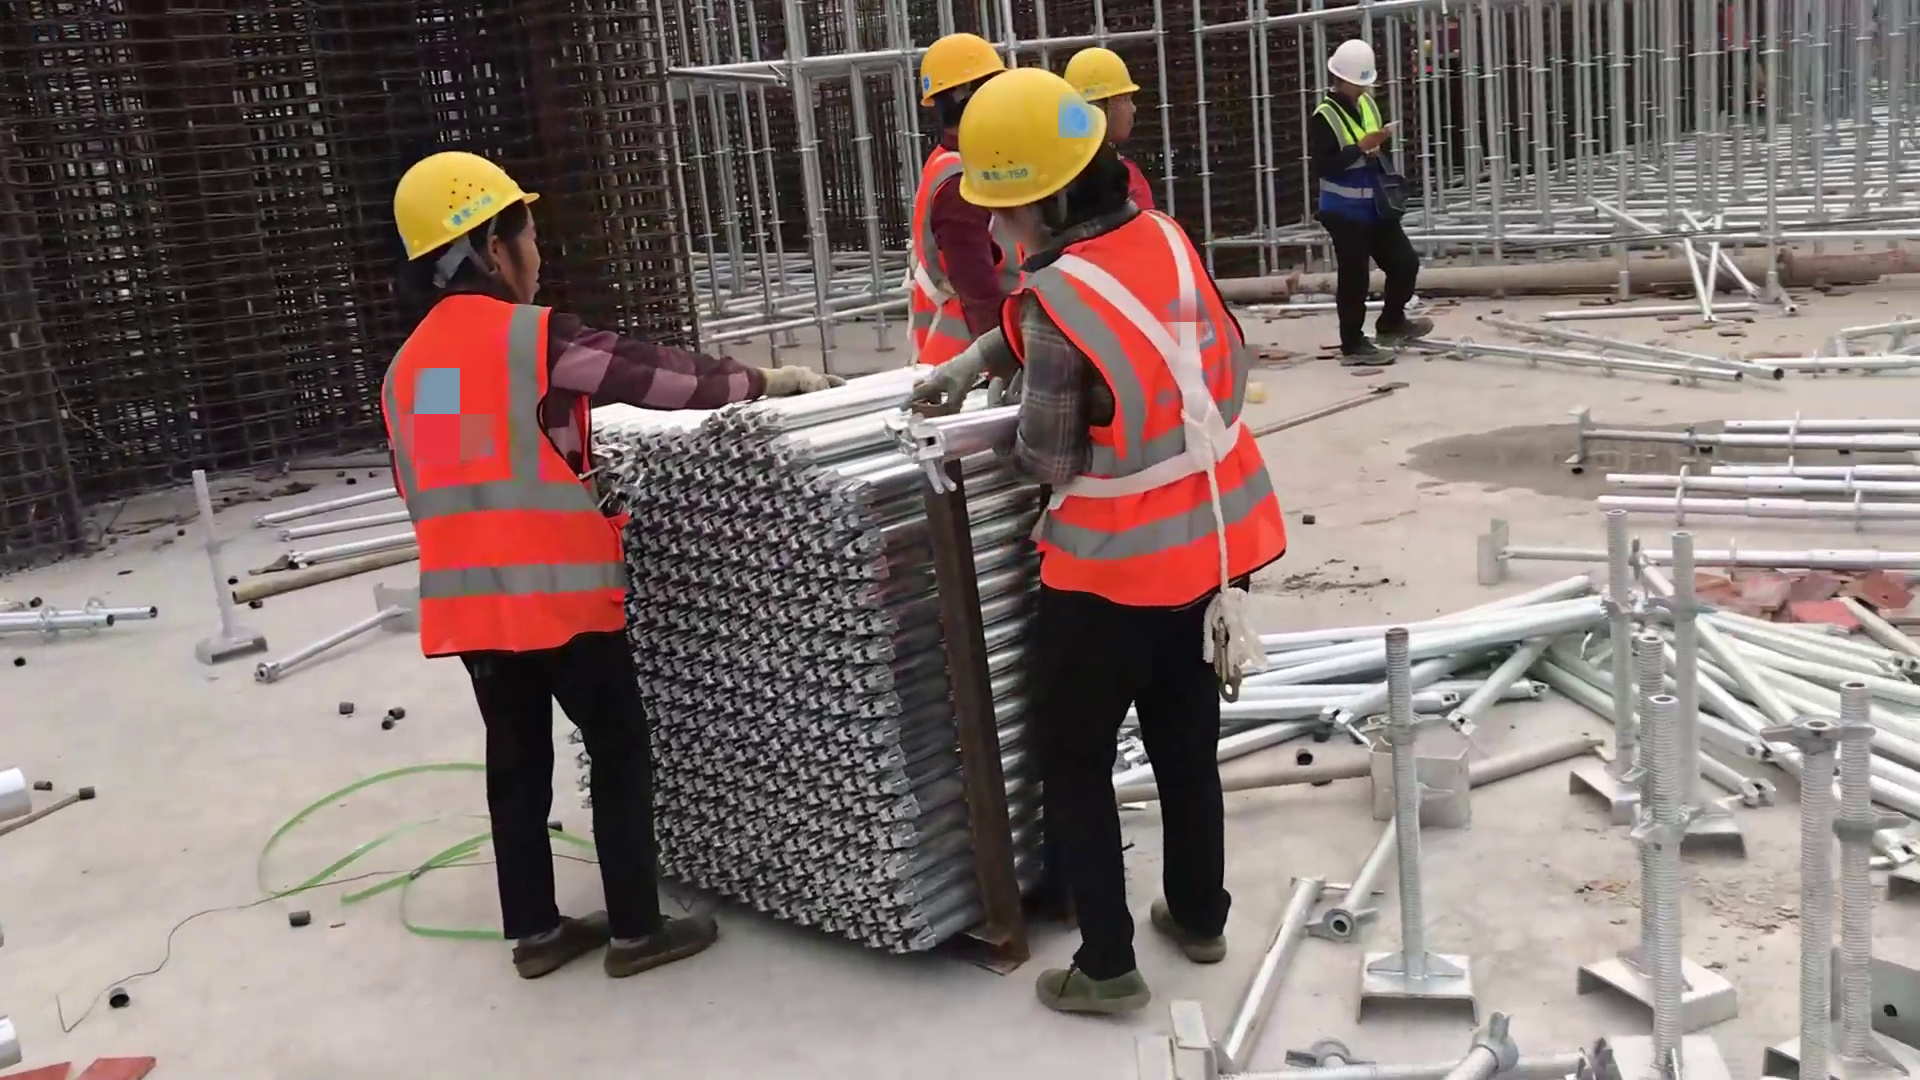helmet: (957, 70, 1112, 212), (382, 142, 549, 261), (918, 29, 1010, 109), (1064, 46, 1143, 103), (1328, 37, 1381, 89)
person: (371, 149, 860, 987), (928, 62, 1250, 1020), (1314, 31, 1436, 376), (901, 22, 1011, 363), (1067, 44, 1170, 207)
scaffold: (630, 379, 1025, 986)
vest: (1006, 205, 1293, 613), (381, 290, 641, 668), (910, 152, 1011, 363), (1317, 93, 1404, 227)
